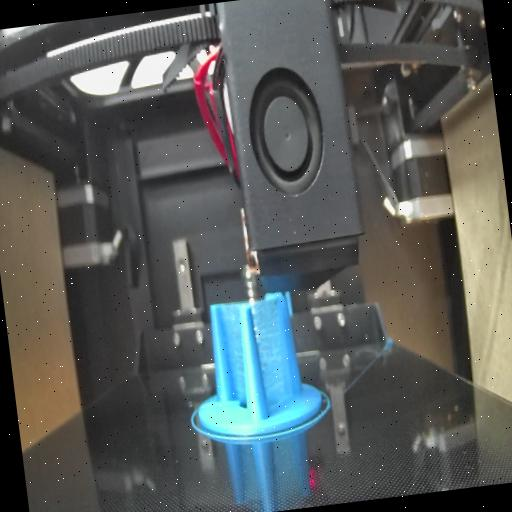stringing: (254, 302, 295, 424), (216, 302, 249, 412)
